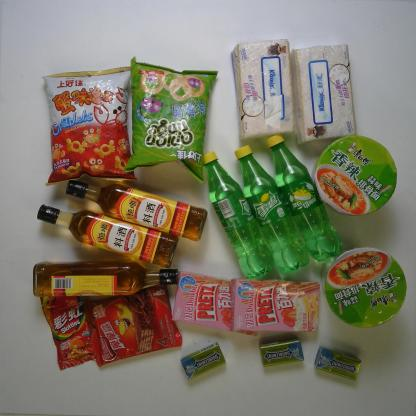Candy: (33, 278, 106, 371)
Dessert: (83, 282, 188, 372), (167, 269, 267, 338), (226, 276, 321, 336)
Drink: (258, 131, 348, 268), (231, 141, 311, 276), (198, 150, 278, 284)
Gum: (179, 342, 228, 383), (312, 345, 365, 381), (257, 332, 307, 370)
Instant Noodles: (309, 133, 401, 218), (319, 243, 407, 330)
Puffed Food: (122, 55, 219, 187), (41, 62, 137, 187)
Seasoner: (62, 176, 211, 242), (35, 204, 181, 270), (30, 258, 184, 301)
Tissue: (230, 36, 300, 146), (287, 41, 358, 149)
